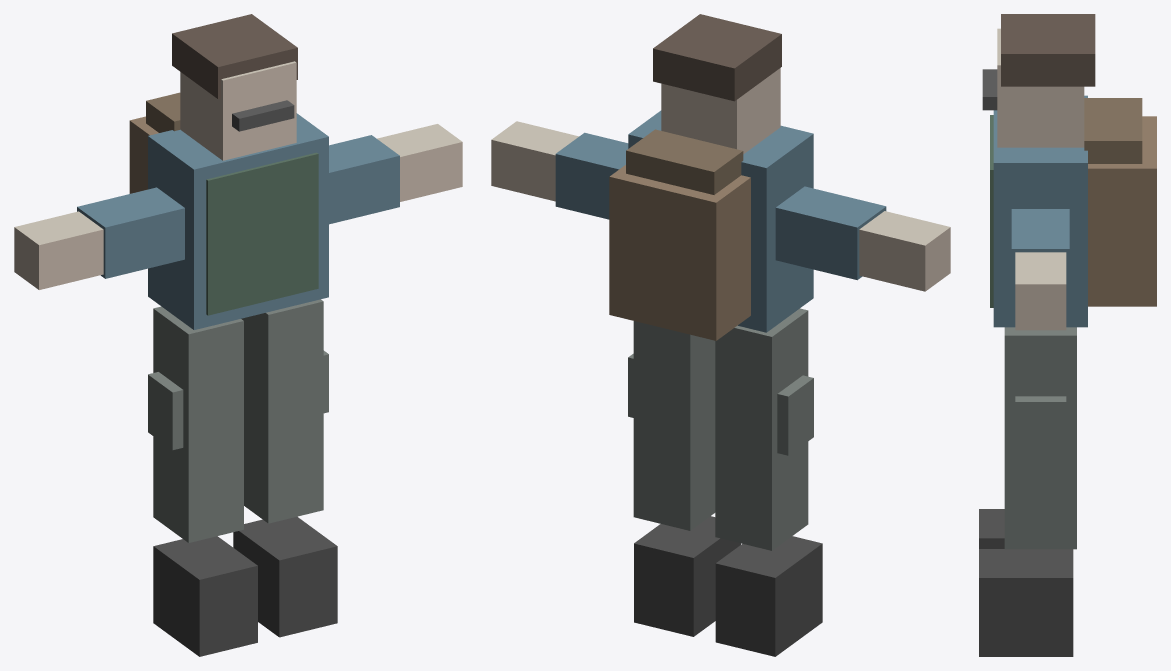
File: Survivor.glb
3 views of the same model, side by side, from view 1: azimuth 30°, elevation 25°; view 2: azimuth 150°, elevation 25°; view 3: azimuth 270°, elevation 25° (orthographic). The views are drawn at different scales.
Bounding box in the file's own units: 1.38 × 1.79 × 0.49.
